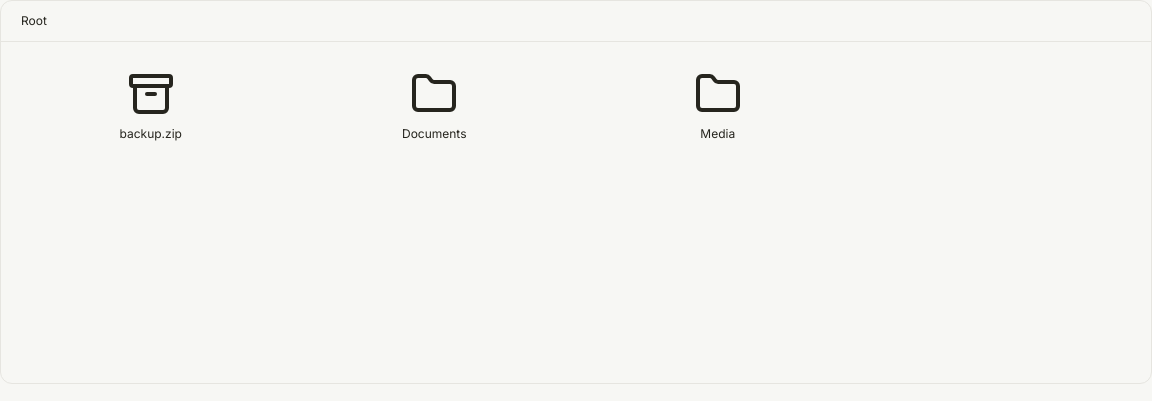
Test case: FileSystem › navigates back to root with breadcrumb in icons view
The image size is (1152, 401).
Click the text "Documents".
click(434, 134)  # box [402,126,466,141]
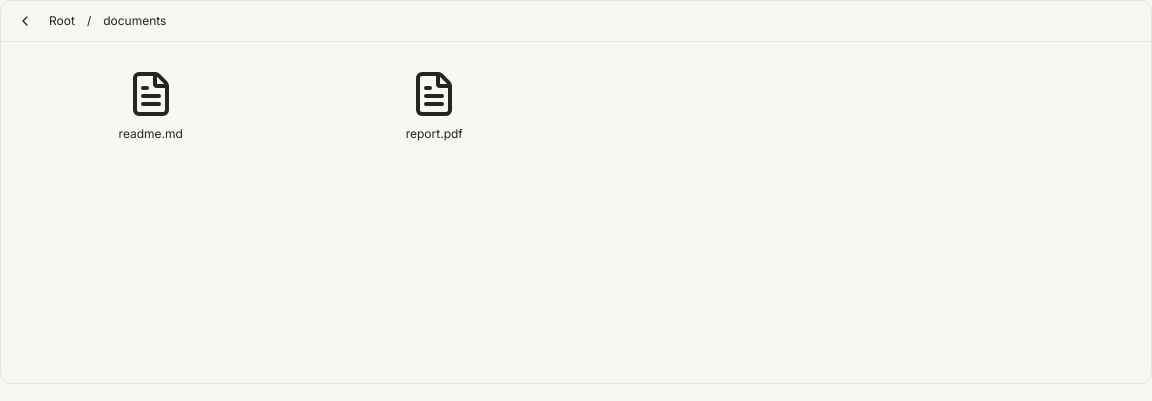
Click the button "Root".
click(62, 21)  # box [41,9,83,33]
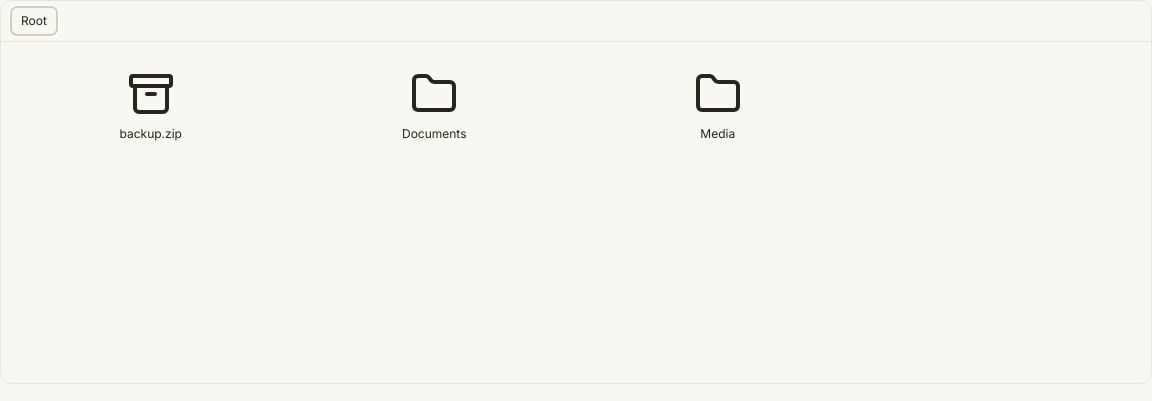
Check: the text "Documents" is shown, box [402,126,466,141]
Check: the text "readme.md" is gone
